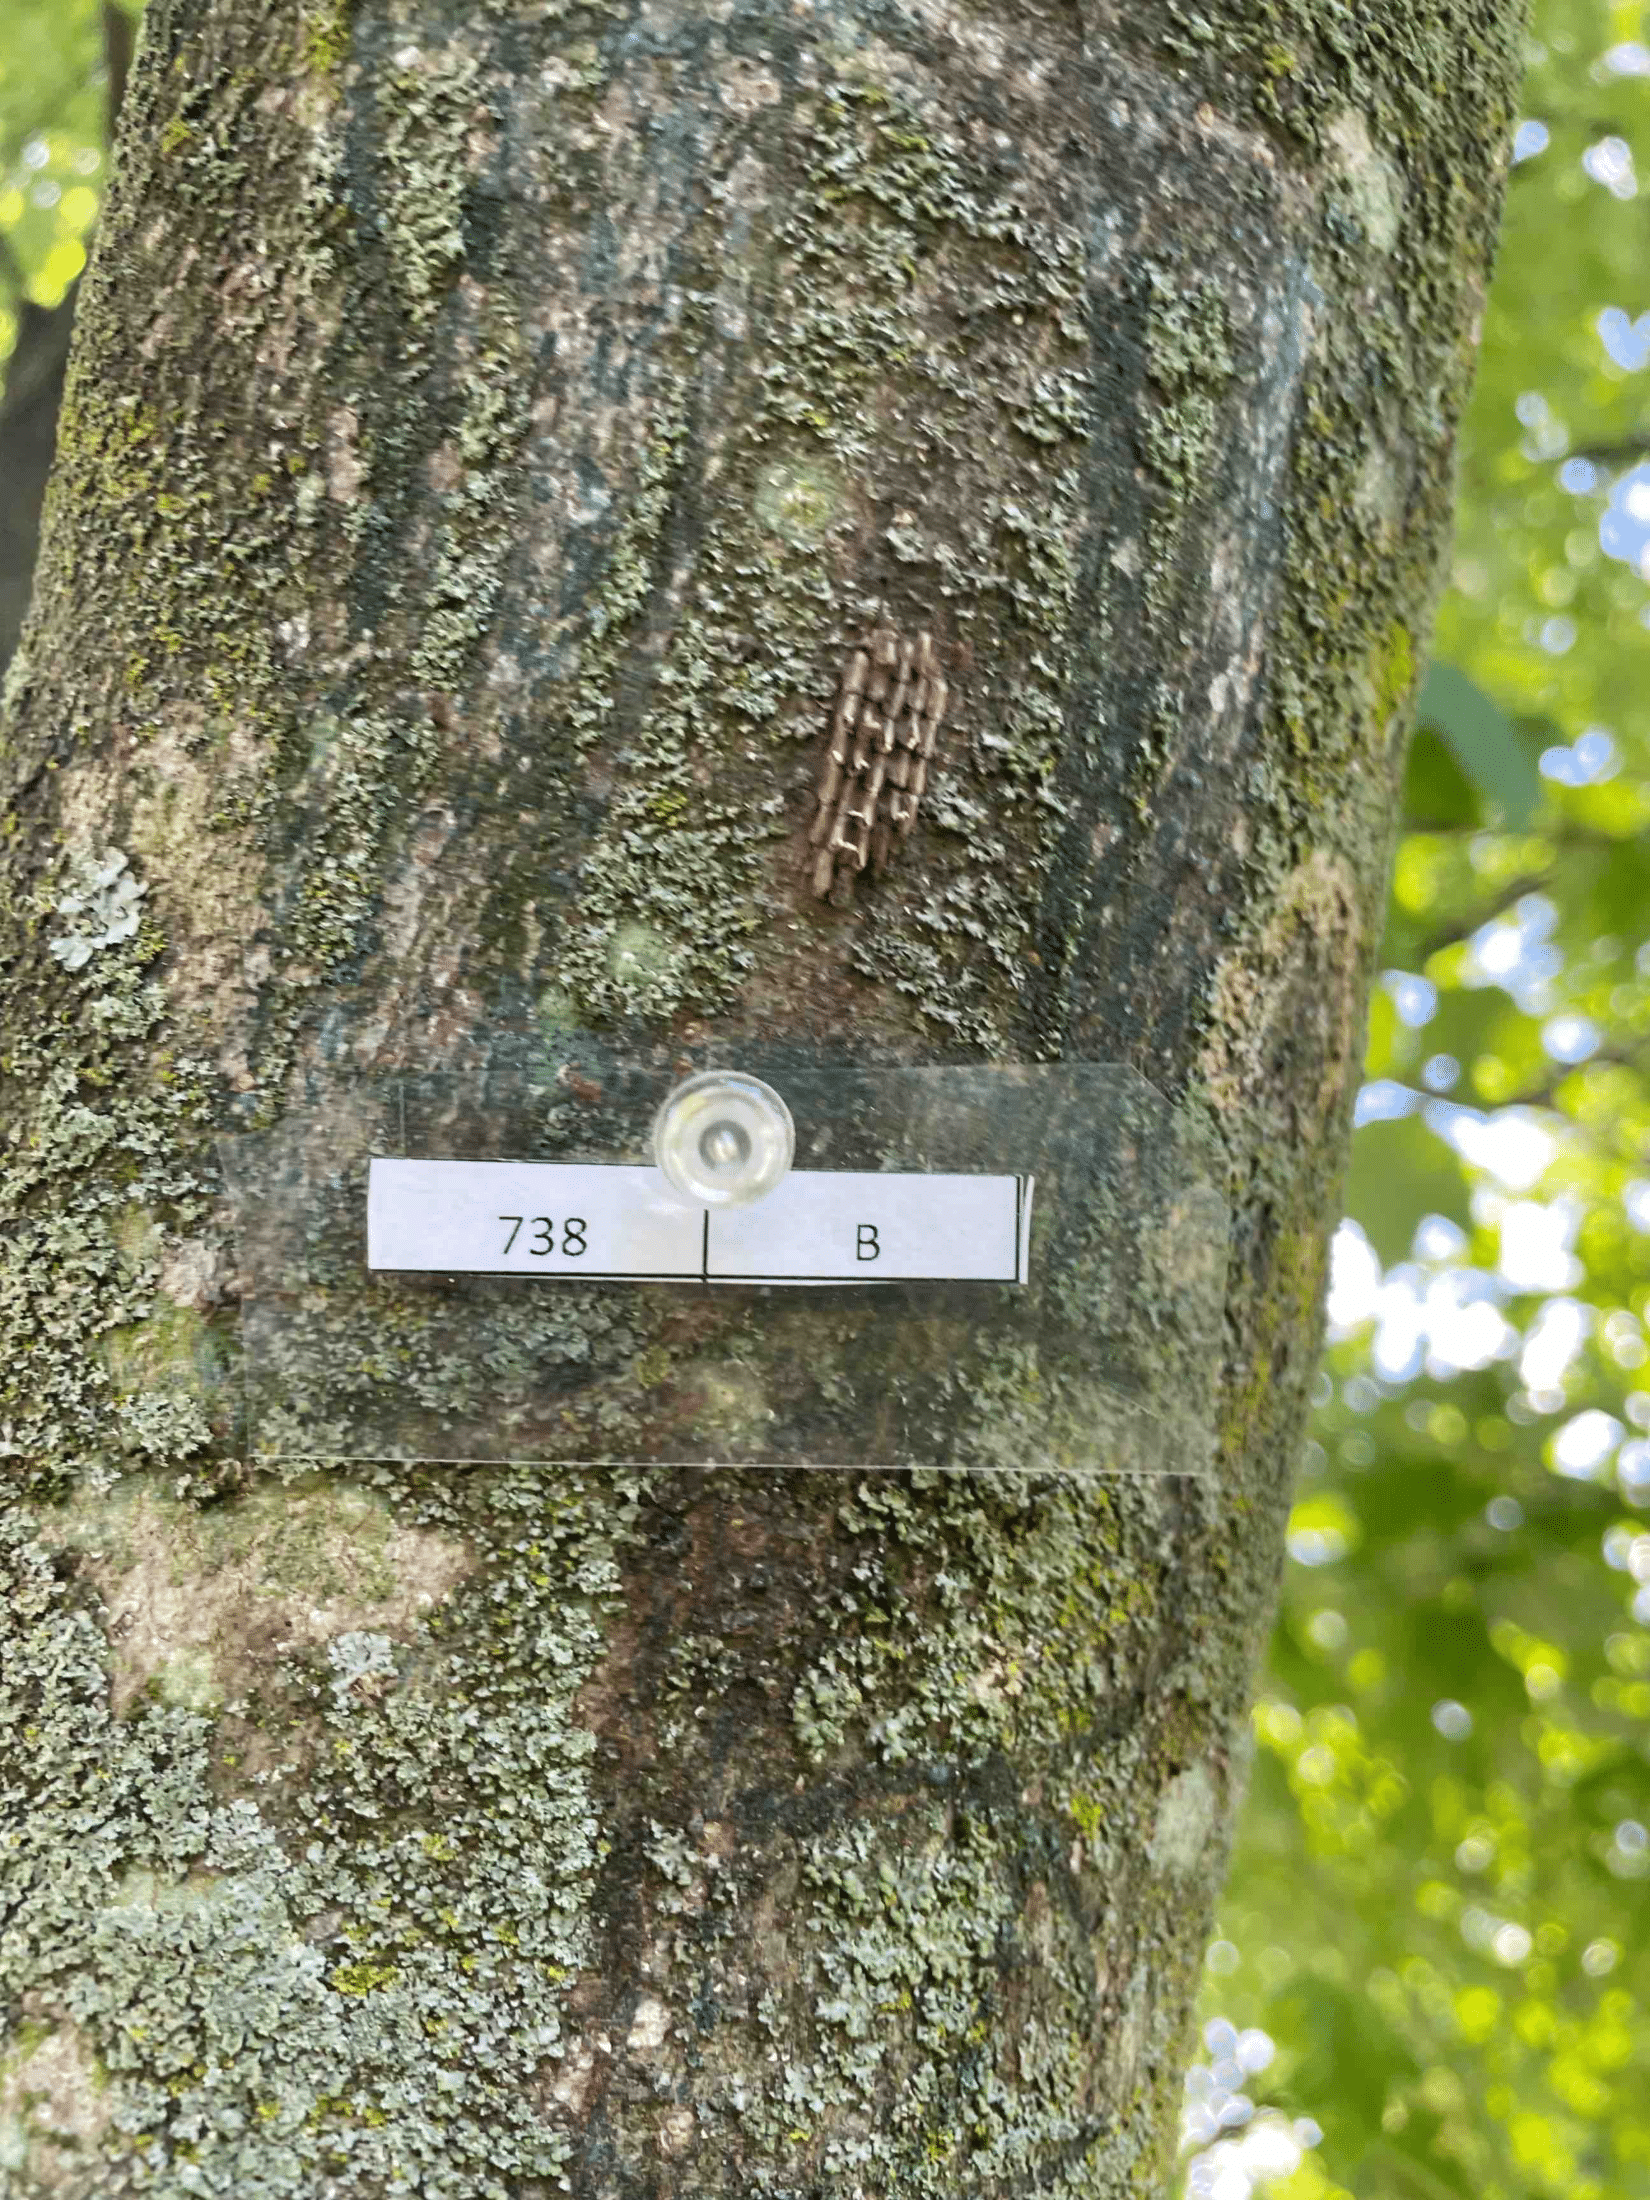egg masses: (822, 606, 943, 908)
